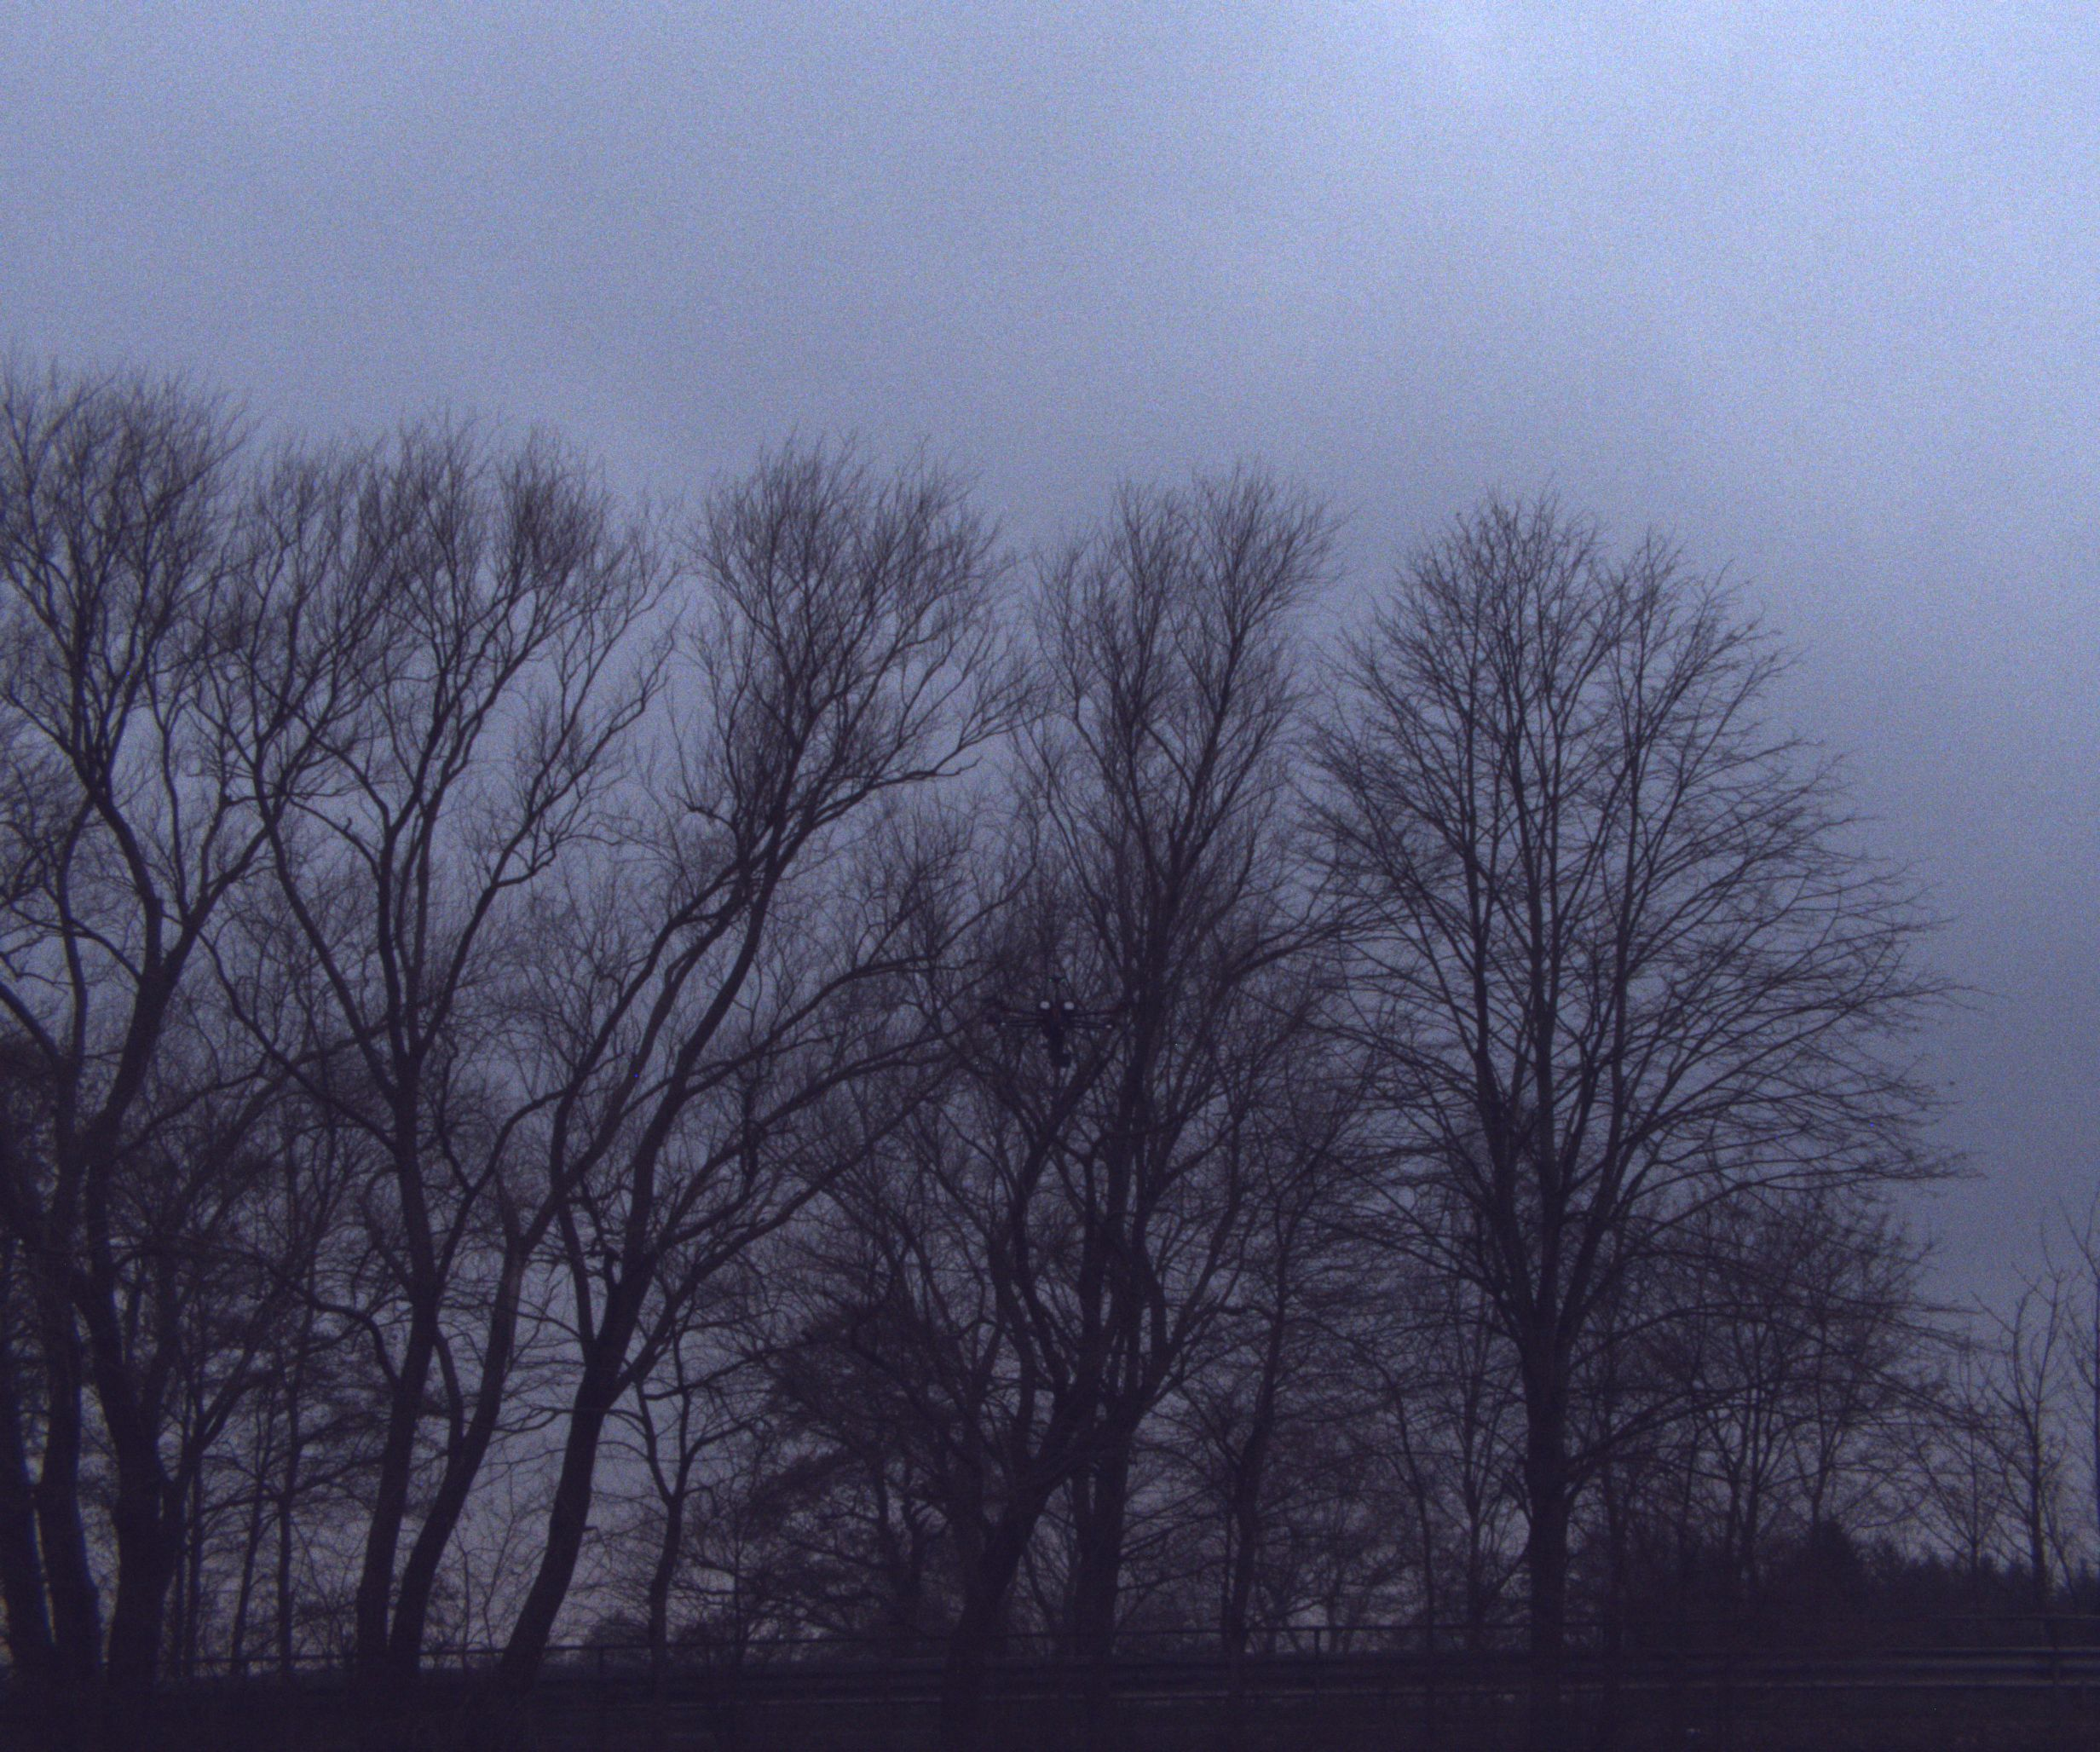Drohne: (984, 962, 1238, 1131)
